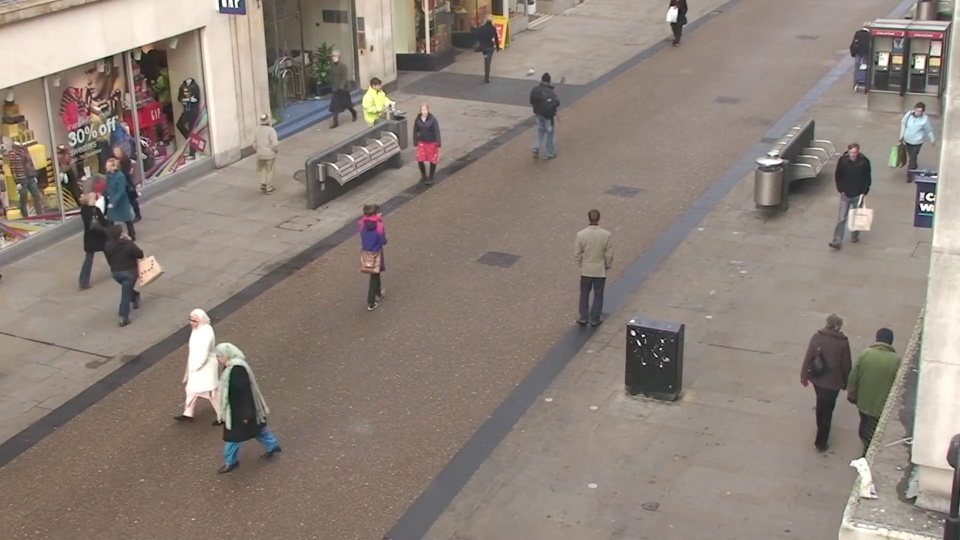pedestrian: (847, 313, 906, 464), (191, 335, 250, 485), (162, 302, 220, 444), (807, 298, 862, 443), (103, 211, 154, 329), (81, 180, 131, 290), (85, 158, 132, 262), (359, 192, 400, 308), (576, 204, 614, 324), (93, 141, 138, 240), (825, 144, 867, 249), (891, 99, 934, 194), (254, 108, 290, 200), (405, 102, 438, 194), (364, 75, 395, 158), (848, 17, 882, 90), (536, 67, 564, 150), (318, 50, 346, 126), (480, 11, 504, 77)
